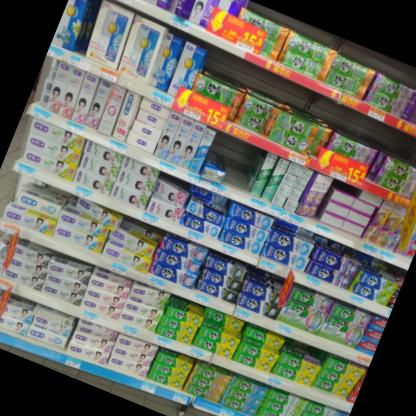empty_space: (217, 140, 265, 203)
